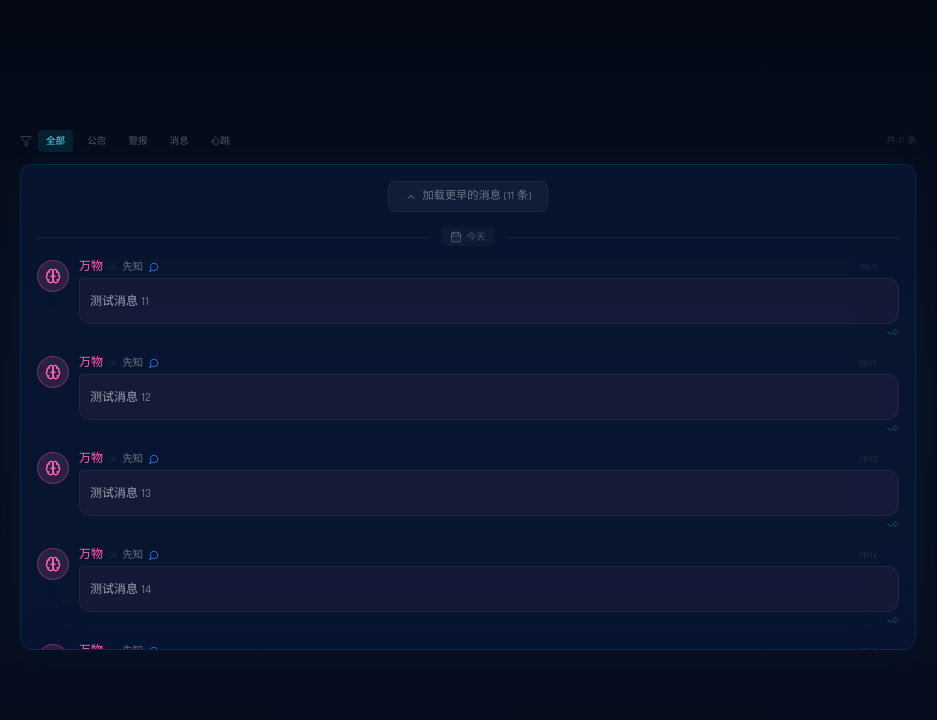
Test: ai-family/FamilyCommCenter › 历史分页: 超过 30 条时显示加载更早按钮
This screenshot has width=937, height=720.
Expected: the text "共 41 条" is shown, [886, 134, 916, 148]
Expected: the text "测试消息 0" is not shown
Click the button "加载更早的消息 (11 条)" at (468, 197), box [388, 181, 548, 212]
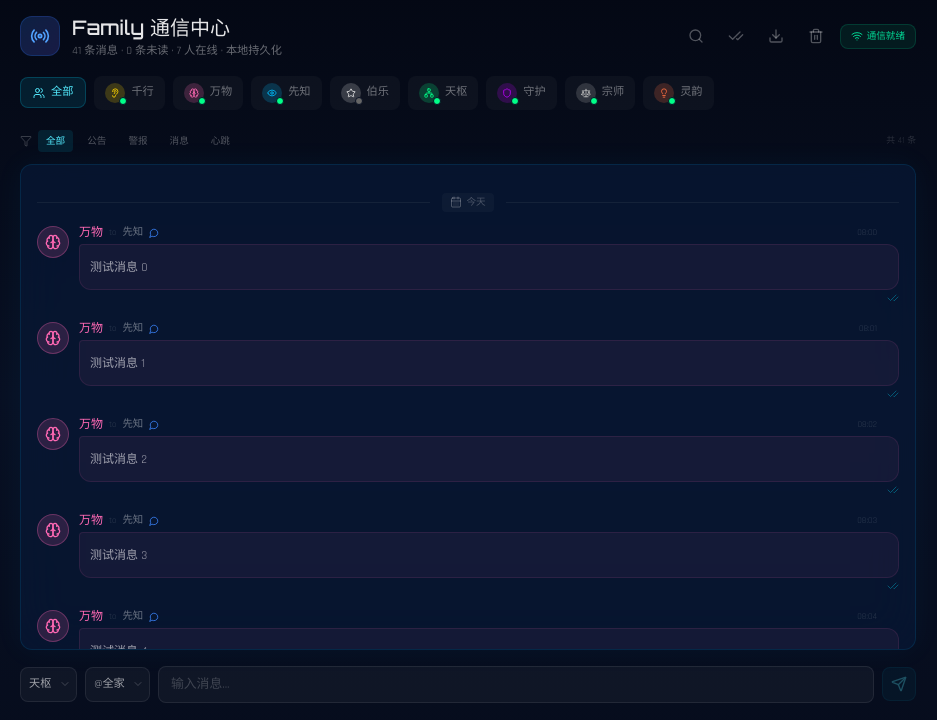
Result: the text "测试消息 0" is shown at [90, 260, 147, 275]
Result: the button "加载更早的消息" is gone
